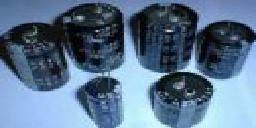Electrolytic-capacitor: (2, 21, 69, 96), (131, 1, 196, 74), (61, 4, 128, 73), (195, 21, 256, 79), (152, 70, 210, 128), (80, 73, 125, 128)
